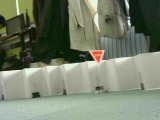stop: (88, 50, 106, 66)
